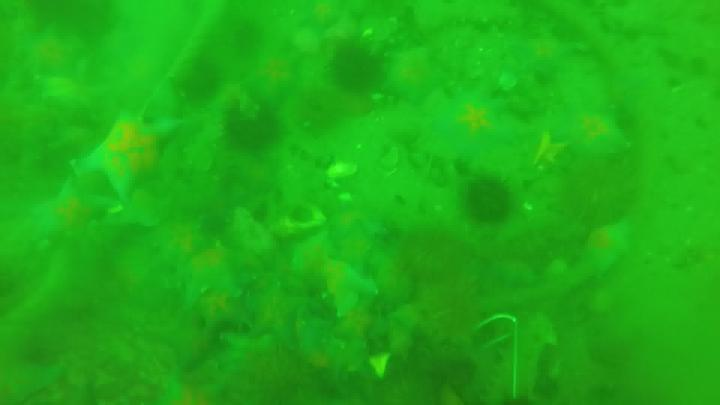echinus: (78, 107, 193, 204), (182, 234, 259, 304), (19, 186, 111, 234), (453, 82, 515, 152), (539, 101, 622, 153), (133, 213, 209, 268), (247, 287, 312, 350), (322, 247, 377, 318), (223, 100, 280, 152), (29, 6, 109, 43), (327, 42, 383, 90), (456, 182, 513, 225), (173, 55, 219, 103)
scallop: (284, 203, 326, 235)
